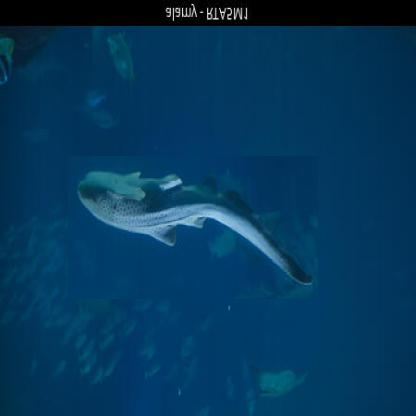zebra_shark: (68, 155, 319, 299)
